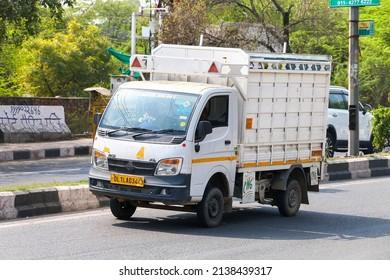car: (327, 84, 378, 158)
truck: (86, 44, 332, 226)
